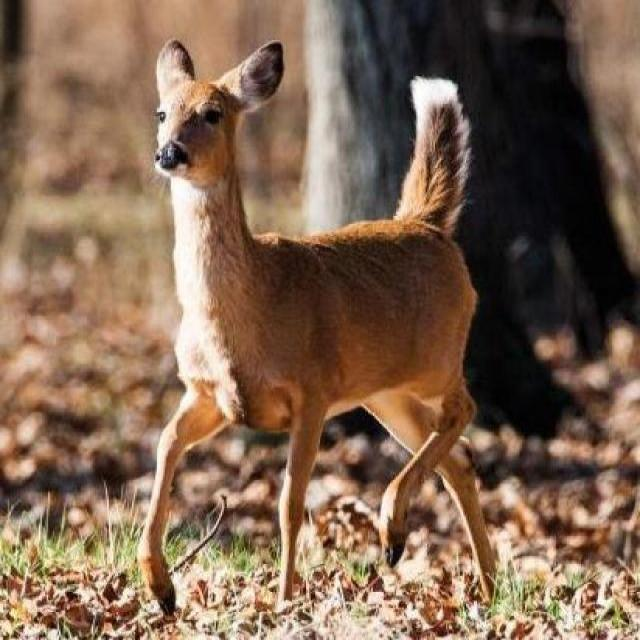deer: (140, 39, 510, 606)
